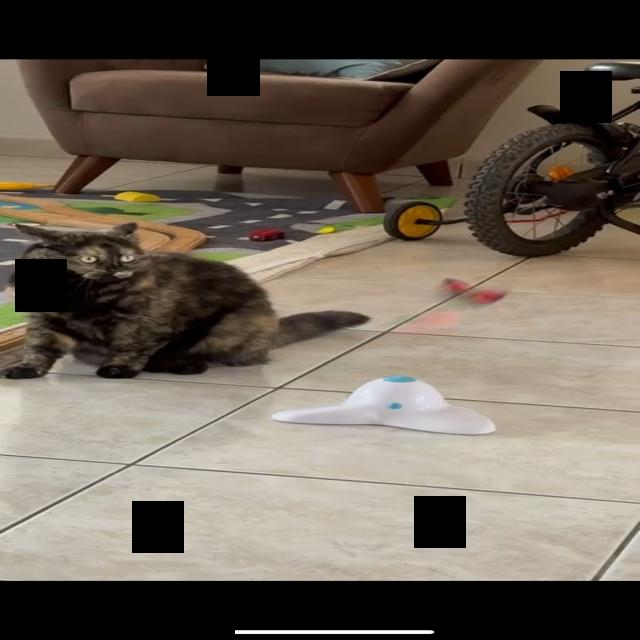authorized: (2, 221, 371, 380)
